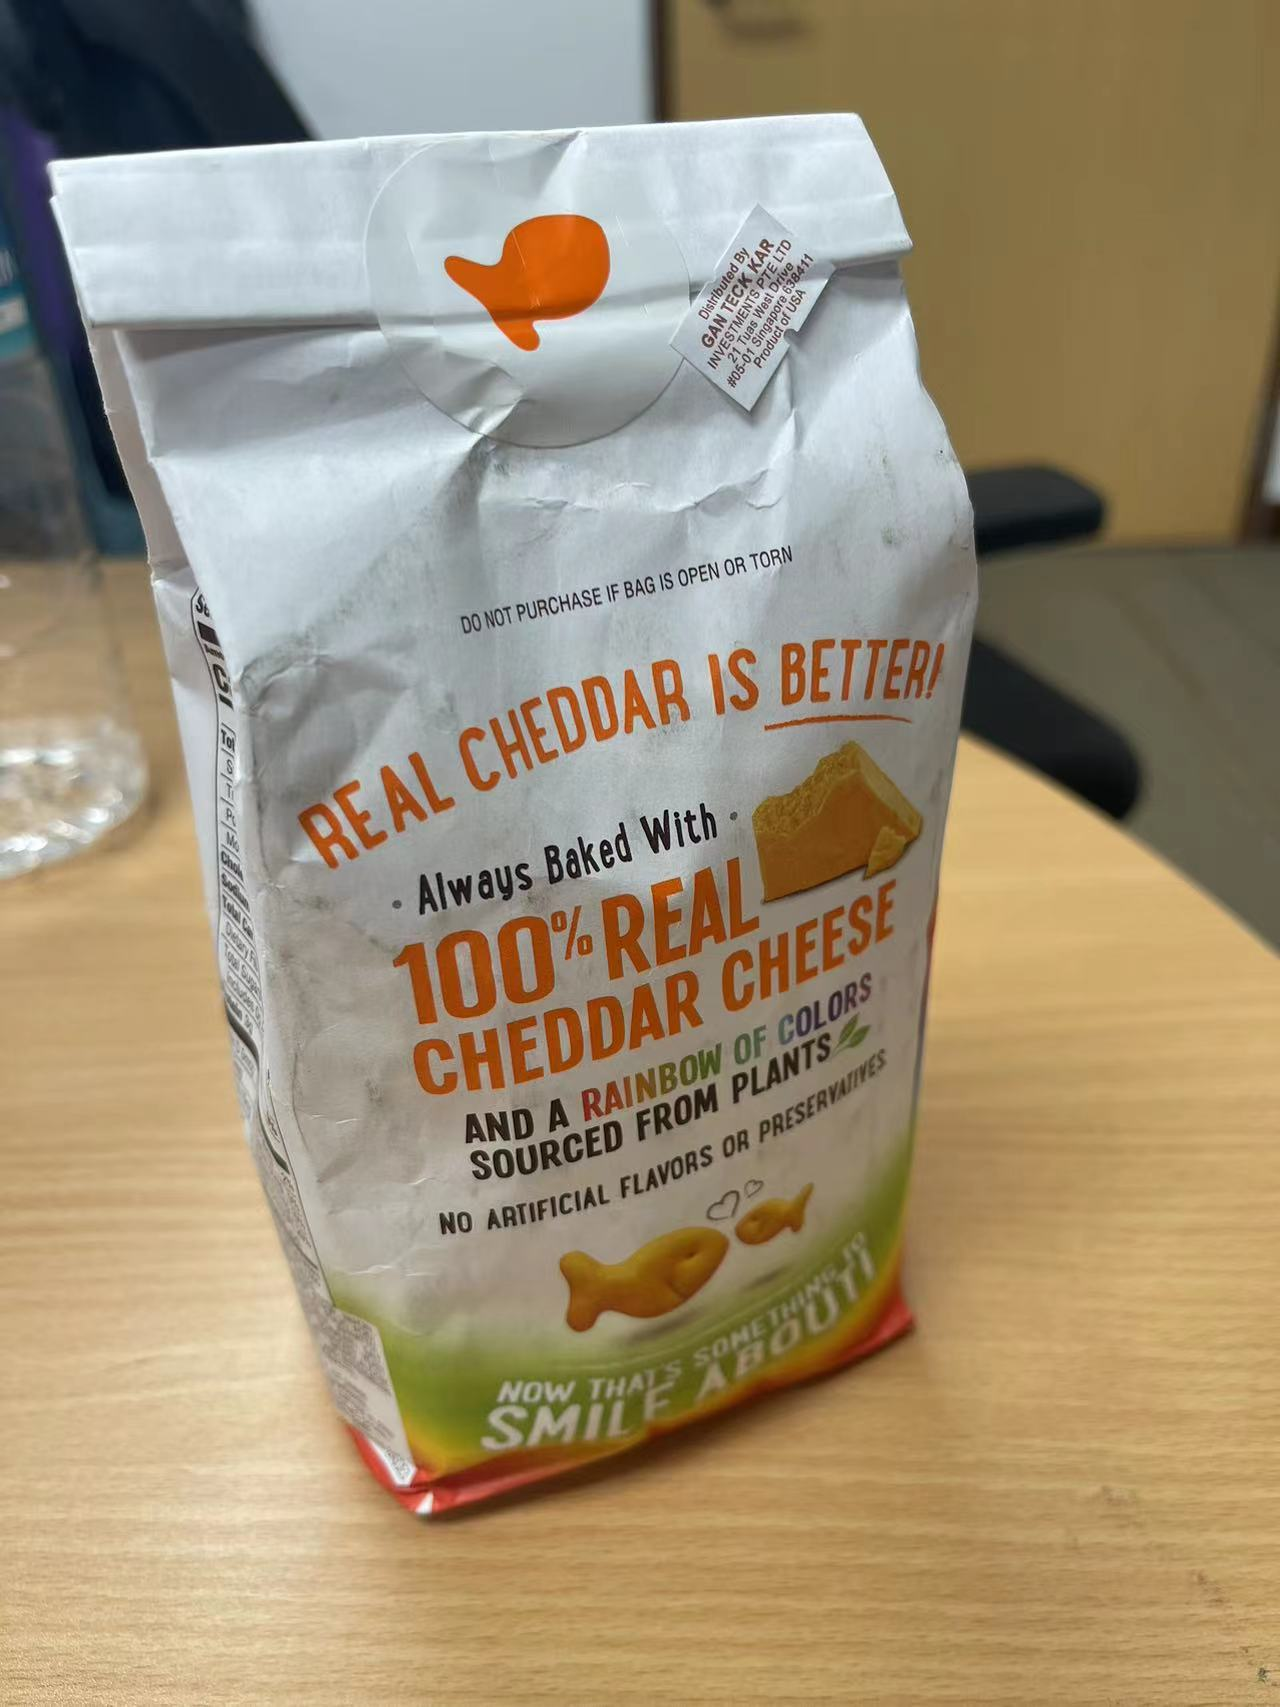Crackers_100-199g_NonHalal_NonHealthy: (152, 153, 951, 1522)
